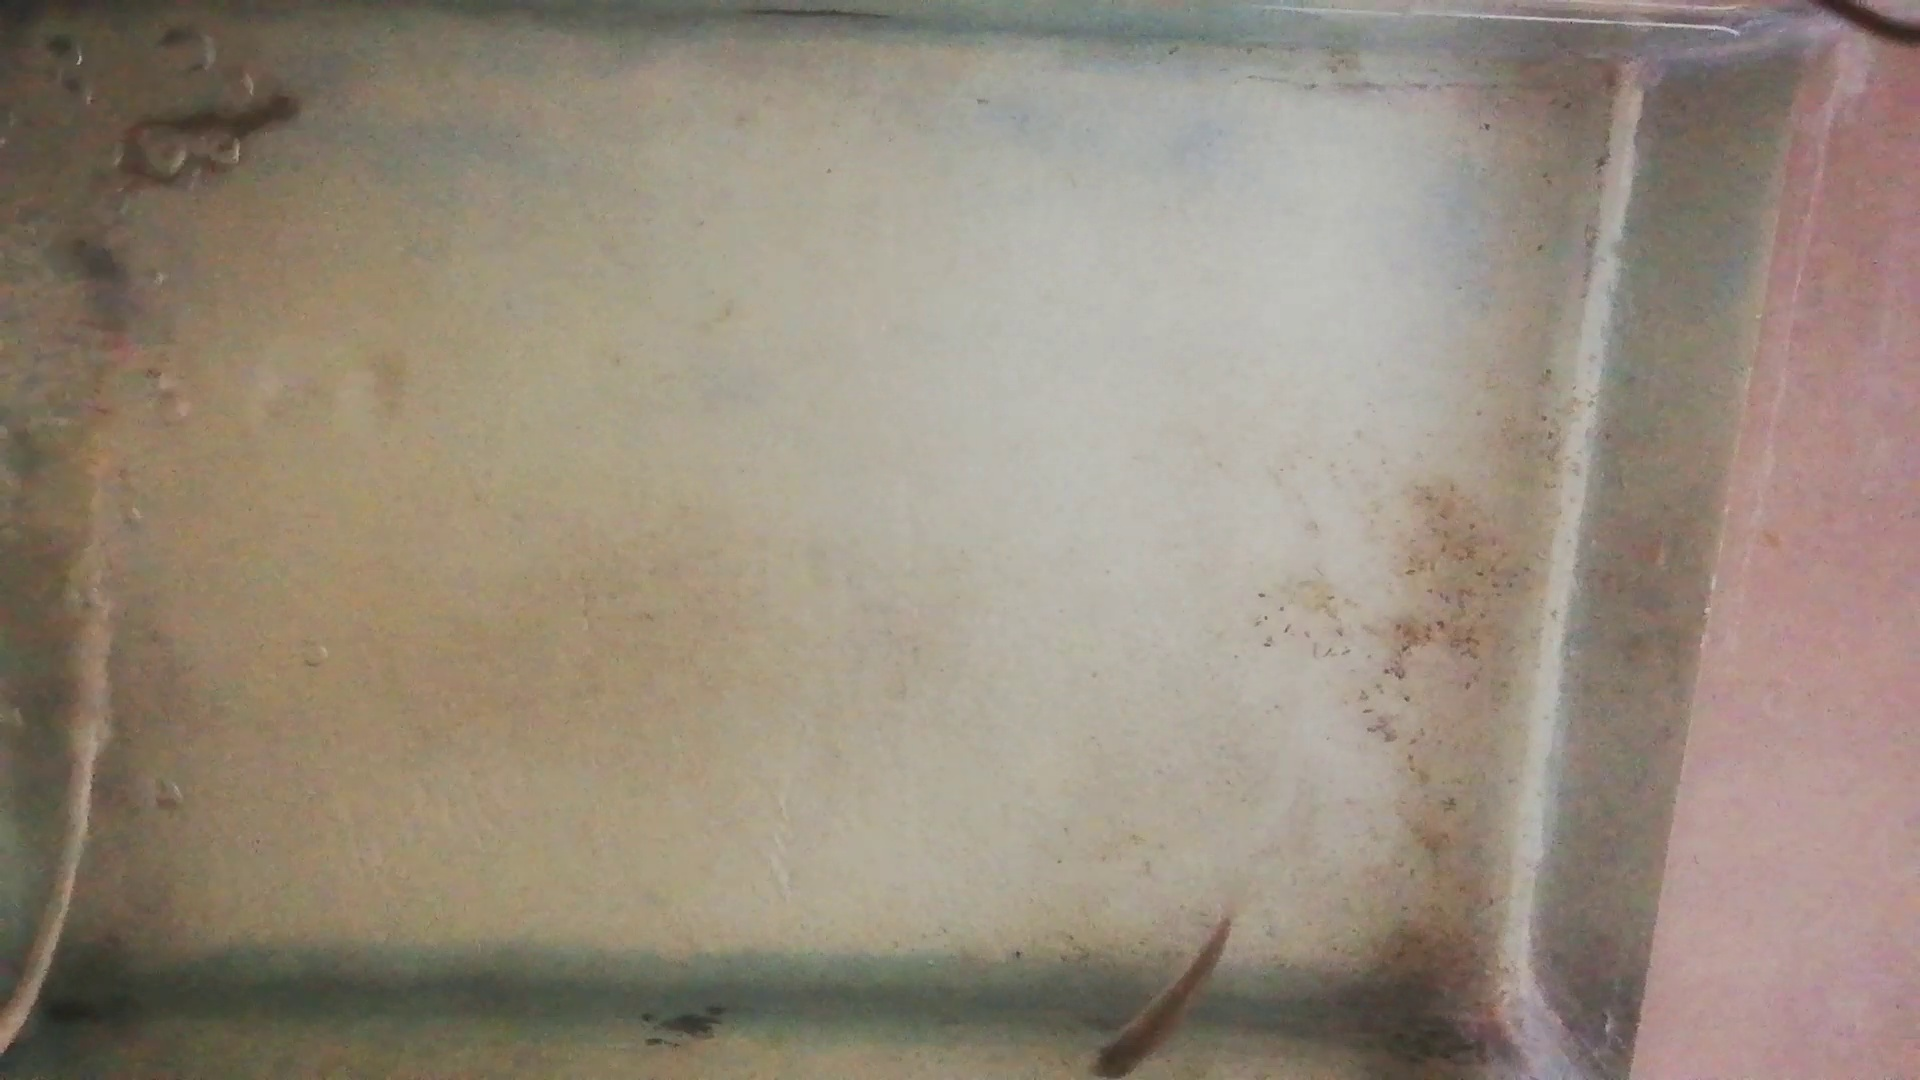fish: (1089, 922, 1233, 1075), (102, 98, 299, 193)
